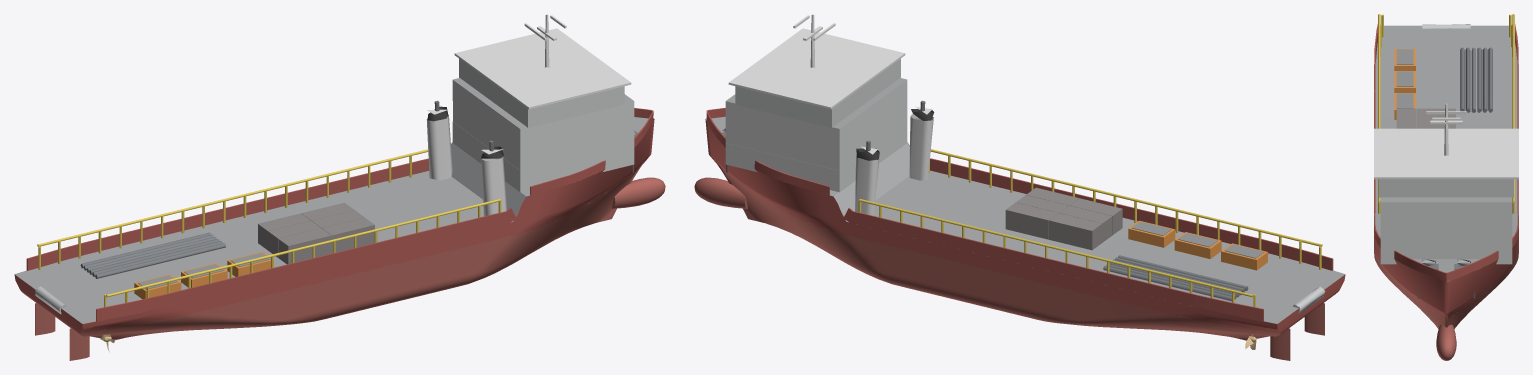
Rendered from supply.glb.
The picture shows the model from 3 angles, left to right: view 1: azimuth 30°, elevation 25°; view 2: azimuth 150°, elevation 25°; view 3: azimuth 270°, elevation 25°; orthographic projection. The views are drawn at different scales.
Size of the model in its own units: 86.67 by 29.41 by 18.
